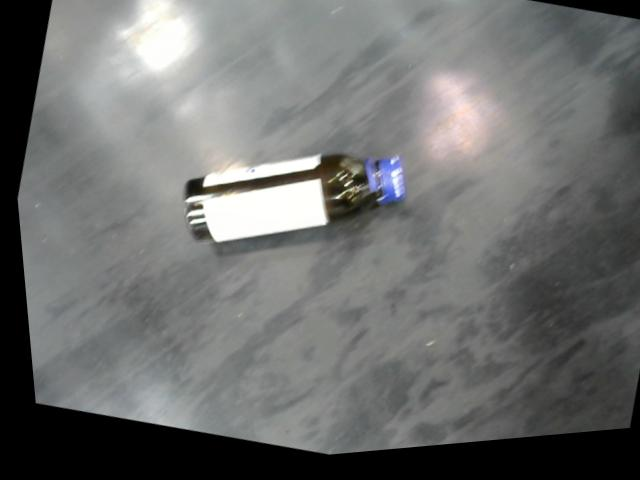glass: (174, 151, 405, 248)
